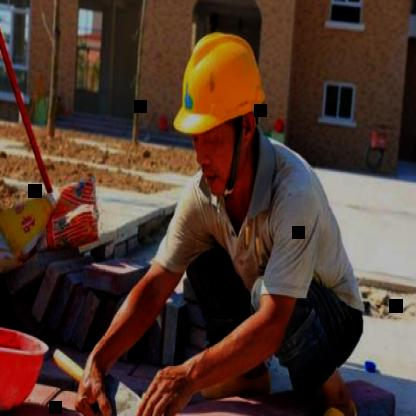helmet: (166, 16, 274, 206)
